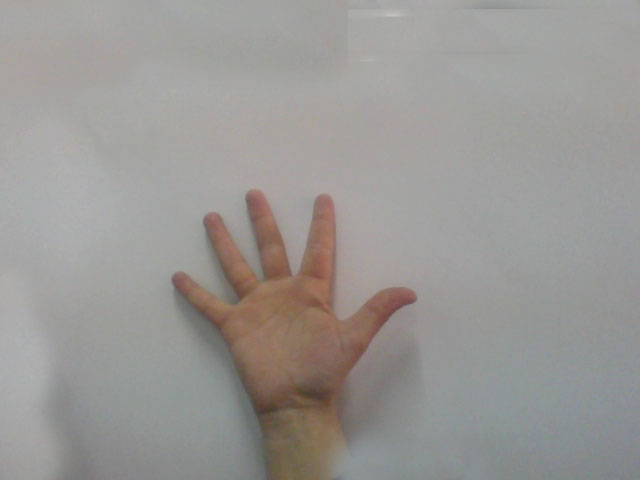hand: (161, 176, 427, 398)
